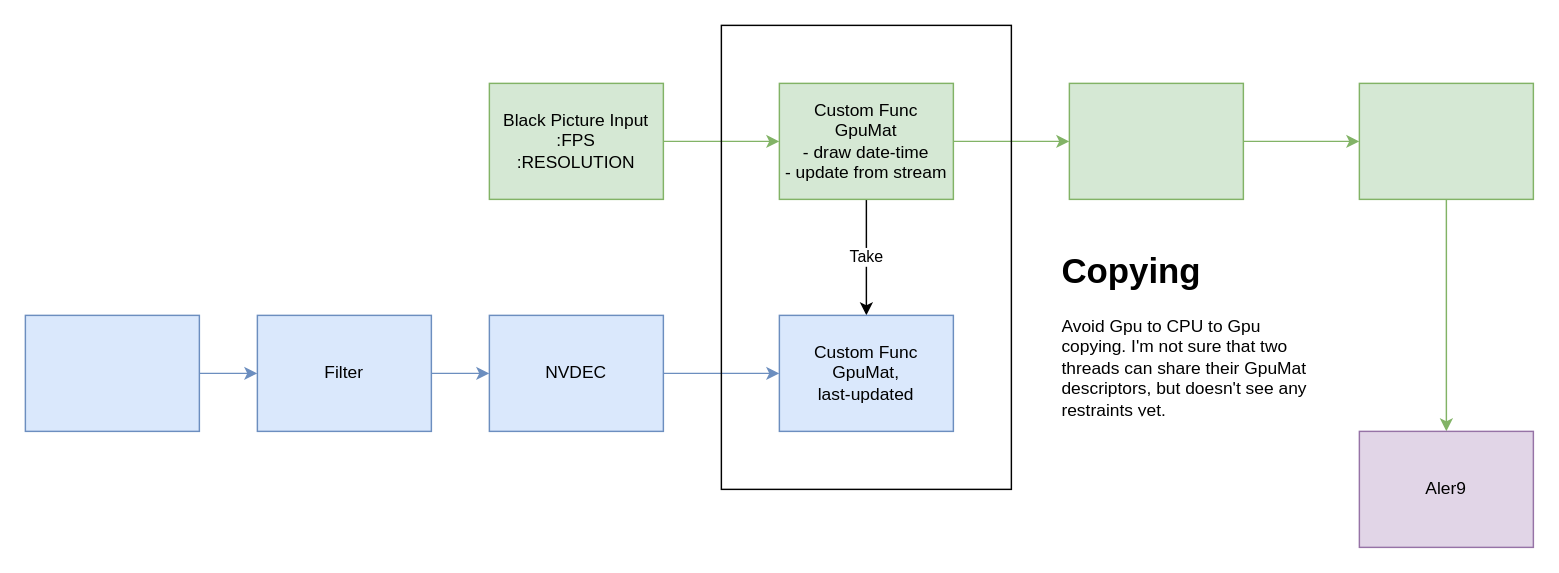
This 1559x573 diagram has some shape labels left out. The shapes that lost their labels are listed below. From the top down, each one's centre as x and y in pixels, then its label:
(x=1155, y=140): NVENC :QUALITY
(x=1445, y=140): RTSP
(x=111, y=372): 0MQ Input :RAW, JPEG, H264, H265
